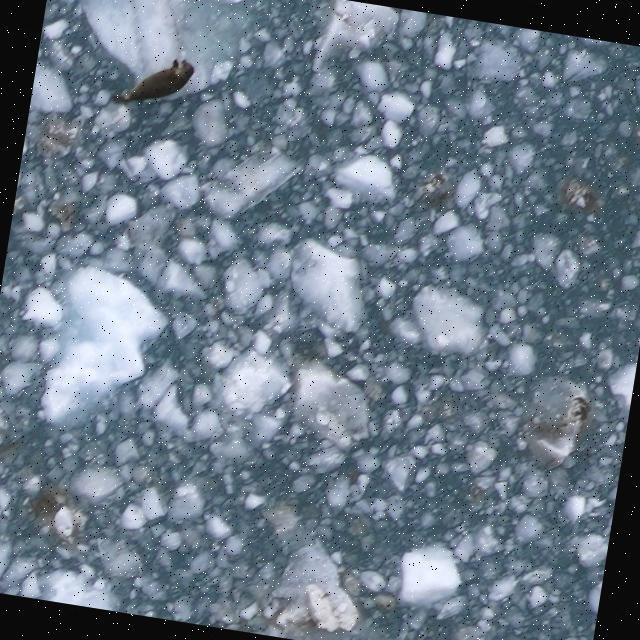seal: (107, 47, 199, 116)
